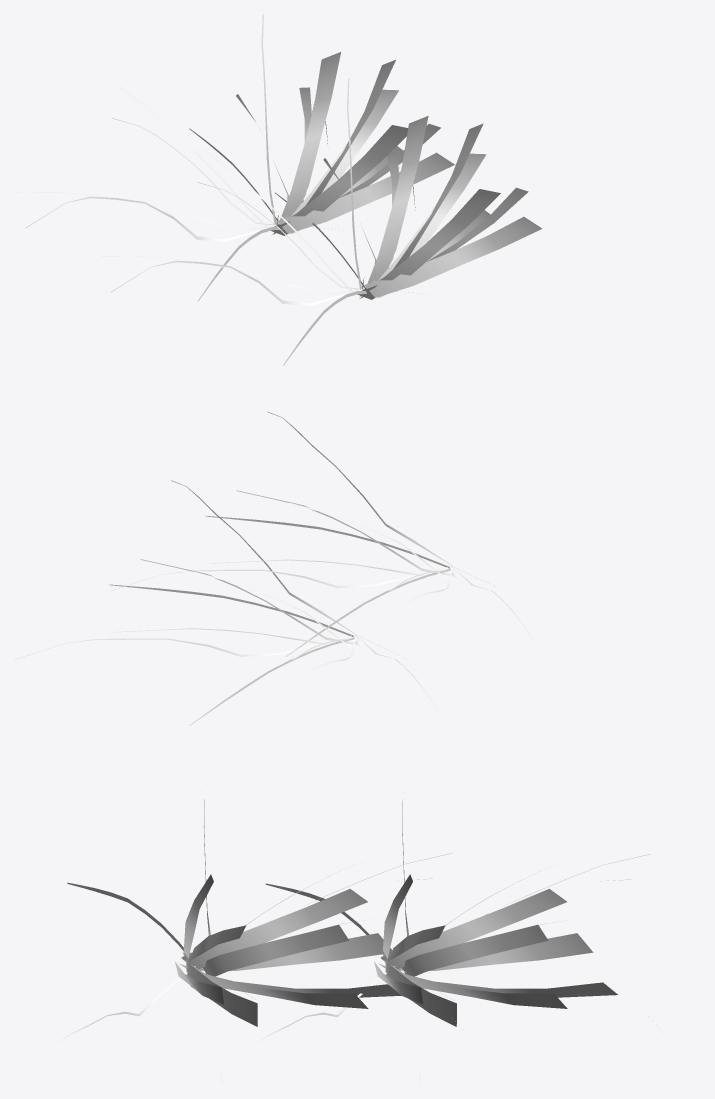
The model's file is TRACK_FIRE_L.glb.
The picture shows the model from 3 angles, top to bottom: view 1: azimuth 30°, elevation 25°; view 2: azimuth 150°, elevation 25°; view 3: azimuth 270°, elevation 25°; orthographic projection. The views are drawn at different scales.
Visible parts, largest first — view 1: F0_ROT0, F1_ROT0, obj31, obj29; view 2: obj31, obj29; view 3: F1_ROT0, F0_ROT0, obj29, obj31.
Part boxes in pixels (left/top/right/bottom): F0_ROT0: left=323, top=116, right=542, bottom=299; F1_ROT0: left=236, top=52, right=454, bottom=235; obj31: left=15, top=14, right=343, bottom=301; obj29: left=100, top=78, right=420, bottom=365; obj31: left=14, top=480, right=452, bottom=737; obj29: left=110, top=411, right=548, bottom=668; F1_ROT0: left=374, top=874, right=617, bottom=1026; F0_ROT0: left=175, top=874, right=401, bottom=1026; obj29: left=15, top=799, right=466, bottom=1083; obj31: left=213, top=801, right=659, bottom=1083.
Bounding box in the file's own units: 17.8 × 5.46 × 18.69.
Materials: 4 (4 with a texture image).
